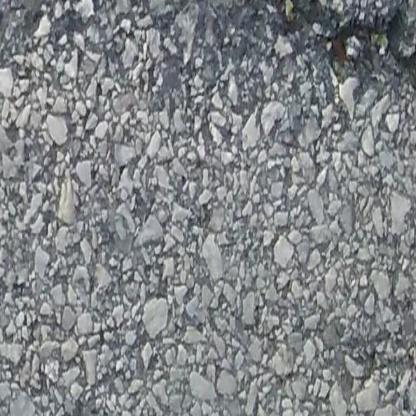Cracks: (150, 0, 416, 88), (0, 0, 125, 50)
